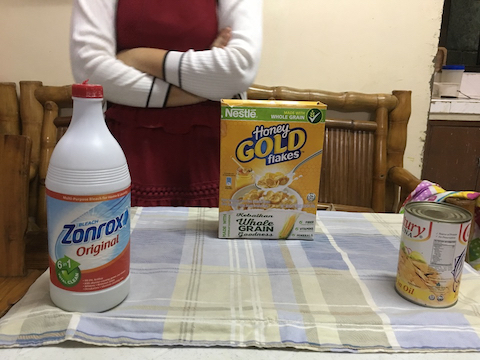bottle: (43, 78, 140, 314)
box: (212, 96, 339, 242)
can: (392, 198, 475, 311)
